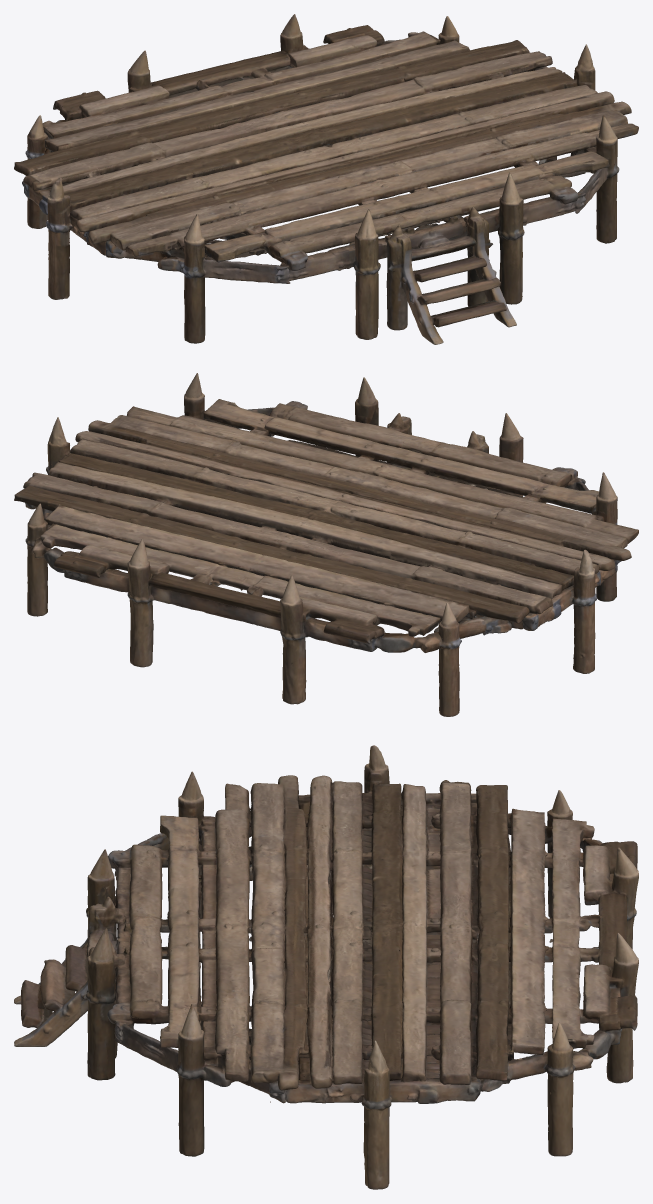
File: Meshy_AI_Rustic_Wooden_Platfor_0310040201_texture.glb
3 views of the same model, one above another, from view 1: azimuth 30°, elevation 25°; view 2: azimuth 150°, elevation 25°; view 3: azimuth 270°, elevation 25° (orthographic). The views are drawn at different scales.
Bounding box in the file's own units: 1.9 × 0.4215 × 1.61.
1 material, 1 textured.
